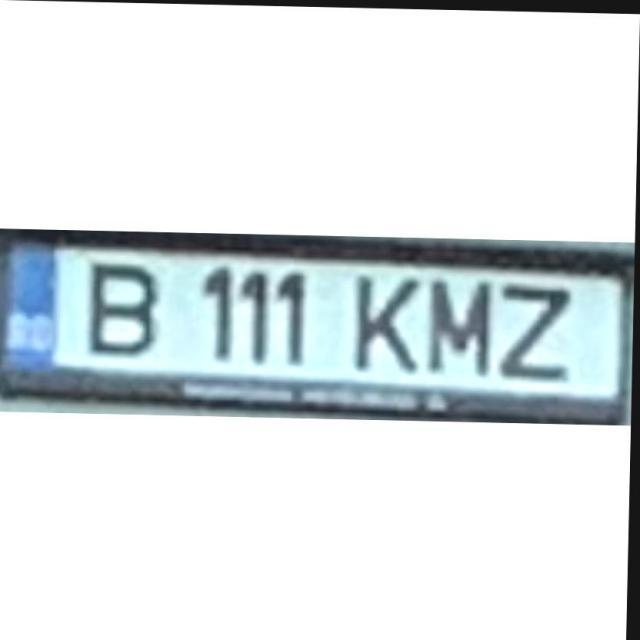license-plates: (0, 232, 634, 424)
